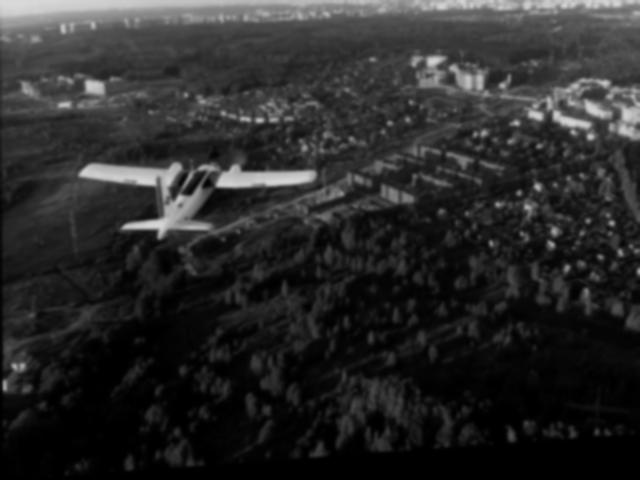hedef: (41, 145, 323, 259)
